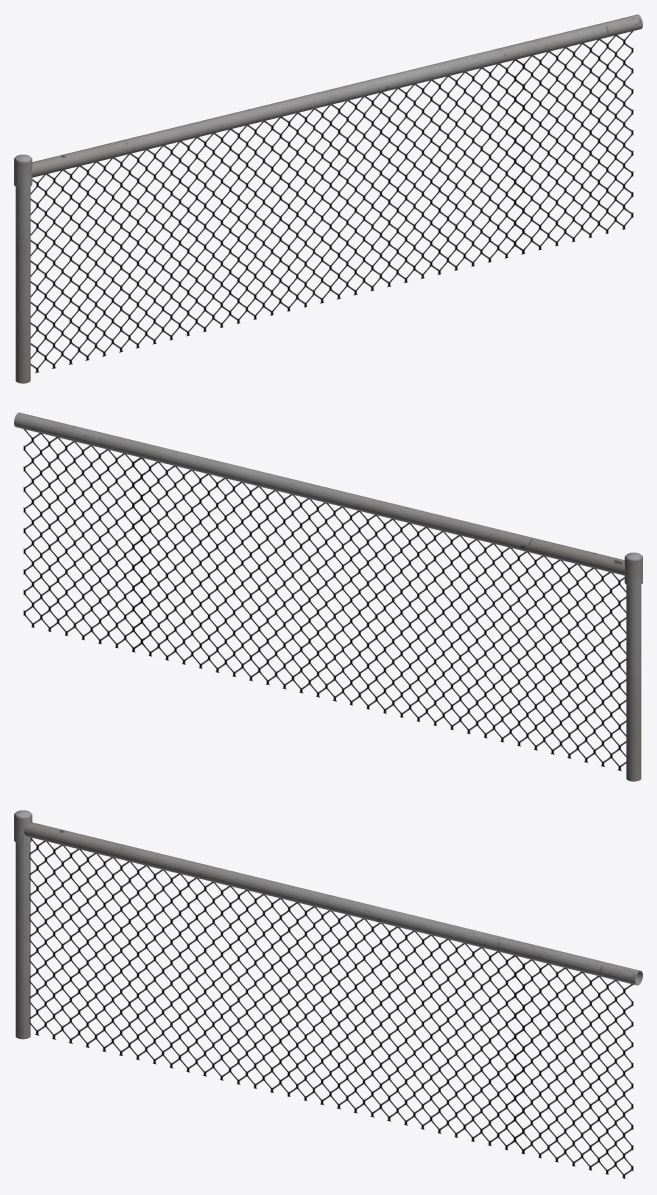
The model's file is chain_link_fence_lod2.glb.
3 views of the same model, one above another, from view 1: azimuth 30°, elevation 25°; view 2: azimuth 150°, elevation 25°; view 3: azimuth 330°, elevation 25° (orthographic).
Visible parts, largest first — view 1: Fence_Straight; view 2: Fence_Straight; view 3: Fence_Straight.
Part boxes in pixels (x1,y1,x2,y2): Fence_Straight: (14,14,642,383); Fence_Straight: (14,412,642,781); Fence_Straight: (14,810,642,1178).
Bounding box in the file's own units: 3.04 × 1.04 × 0.0776.
2 materials, 2 textured.
